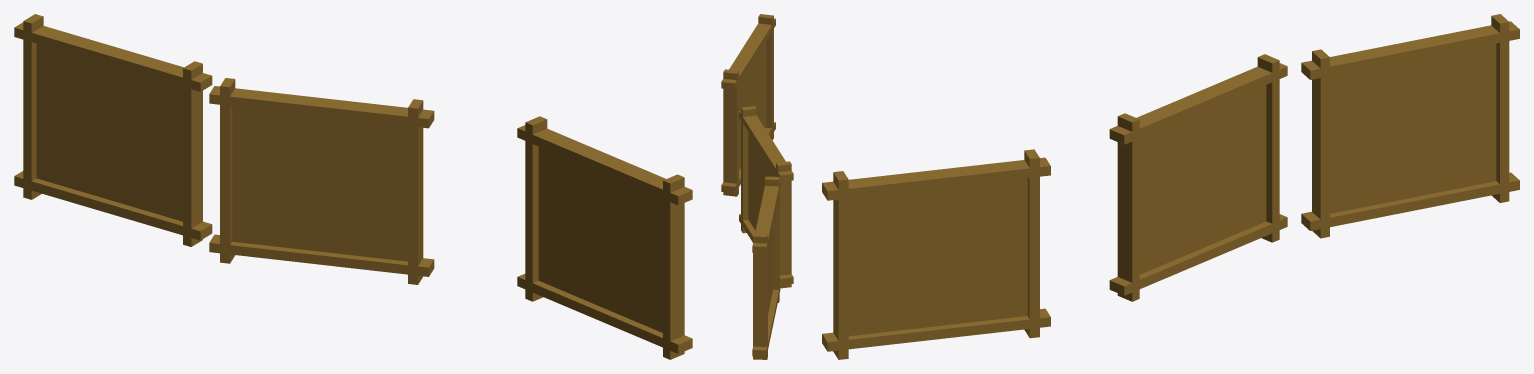
File: maze_world_leaderboards.glb
3 renders of one model, left to right at view 1: azimuth 30°, elevation 25°; view 2: azimuth 150°, elevation 25°; view 3: azimuth 270°, elevation 25°, orthographic. The views are drawn at different scales.
Visible parts, largest first — view 1: Roblox reference geometry; view 2: Roblox reference geometry; view 3: Roblox reference geometry.
Part boxes in pixels (box(x1,y1,x2,y2)): Roblox reference geometry: box(14, 14, 692, 359); Roblox reference geometry: box(721, 14, 793, 359); Roblox reference geometry: box(822, 14, 1519, 359).
Bounding box in the file's own units: 23.16 × 11.4 × 40.19.
